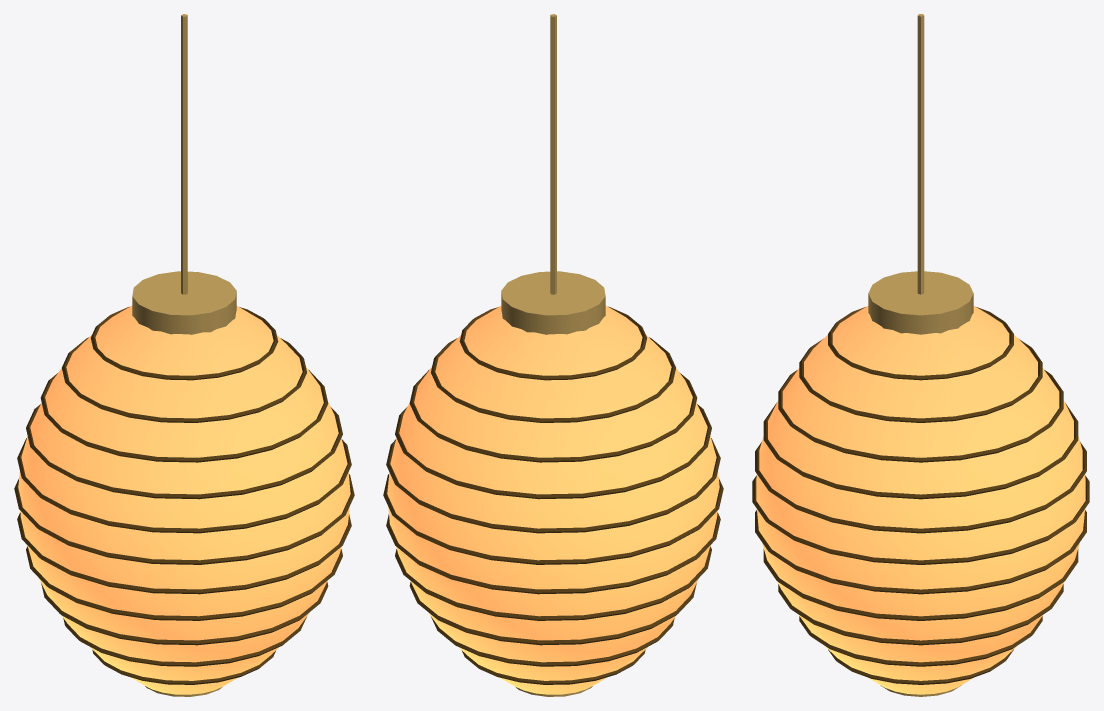
File: tea-lantern-paper.glb
The picture shows the model from 3 angles, left to right: view 1: azimuth 30°, elevation 25°; view 2: azimuth 150°, elevation 25°; view 3: azimuth 270°, elevation 25°; orthographic projection.
Visible parts, largest first — view 1: paper__lantern, ribs__bamboo, caps__brass; view 2: paper__lantern, ribs__bamboo, caps__brass; view 3: paper__lantern, ribs__bamboo, caps__brass.
Part boxes in pixels (x1,y1,x2,y2): paper__lantern: (18,305,350,694); ribs__bamboo: (14,306,354,684); caps__brass: (132,14,236,696); paper__lantern: (387,305,719,694); ribs__bamboo: (383,306,723,684); caps__brass: (501,14,605,696); paper__lantern: (756,306,1085,694); ribs__bamboo: (752,307,1089,684); caps__brass: (868,14,973,696).
Bounding box in the file's own units: 0.389 × 0.835 × 0.385.
